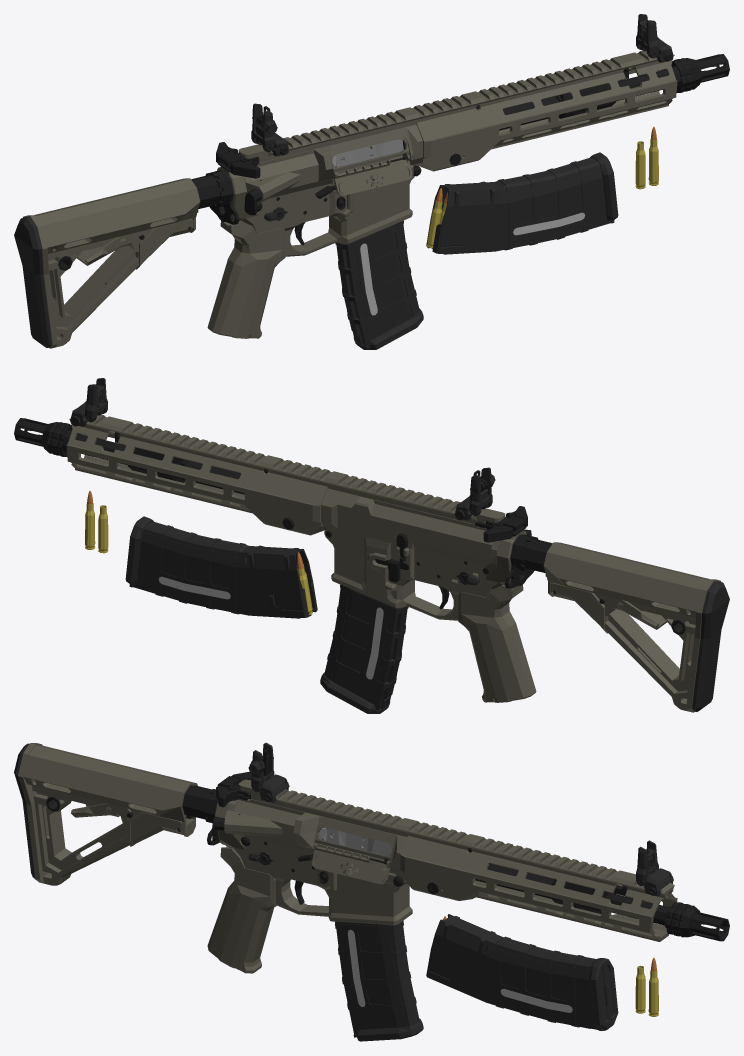
Rendered from low-poly_sako_m23_5.56.glb.
The picture shows the model from 3 angles, top to bottom: view 1: azimuth 30°, elevation 25°; view 2: azimuth 150°, elevation 25°; view 3: azimuth 330°, elevation 25°; orthographic projection.
Visible parts, largest first — view 1: ak24 stock_15, ak24 handguard_17, 55645 ar15 30rnd mag (pmag)_11, ak24 lower_9, ak24 upper_5, 55645 ar15 30rnd mag empty (pmag)_12, ak24 grip_16, ak24 iron sights_18, ak24 dust cover_7, ak24 flash hider_13, ak24 11.5in barrel_2, ak24 charging handle_14 (+1 smaller); view 2: ak24 stock_15, ak24 handguard_17, 55645 ar15 30rnd mag (pmag)_11, ak24 lower_9, ak24 upper_5, 55645 ar15 30rnd mag empty (pmag)_12, ak24 grip_16, ak24 iron sights_18, ak24 flash hider_13, ak24 11.5in barrel_2, ak24 charging handle_14; view 3: ak24 handguard_17, ak24 stock_15, 55645 ar15 30rnd mag (pmag)_11, ak24 lower_9, ak24 upper_5, 55645 ar15 30rnd mag empty (pmag)_12, ak24 grip_16, ak24 iron sights_18, ak24 dust cover_7, ak24 flash hider_13, ak24 11.5in barrel_2, ak24 bolt_6 (+1 smaller).
Boxes of the visible parts, bbox=[...] form: ak24 stock_15: bbox=[14, 178, 200, 348]; ak24 handguard_17: bbox=[406, 50, 677, 171]; 55645 ar15 30rnd mag (pmag)_11: bbox=[426, 152, 618, 254]; ak24 lower_9: bbox=[191, 164, 421, 256]; ak24 upper_5: bbox=[238, 108, 422, 215]; 55645 ar15 30rnd mag empty (pmag)_12: bbox=[335, 220, 423, 349]; ak24 grip_16: bbox=[207, 220, 285, 338]; ak24 iron sights_18: bbox=[251, 14, 672, 156]; ak24 dust cover_7: bbox=[333, 153, 412, 195]; ak24 flash hider_13: bbox=[671, 54, 729, 92]; ak24 11.5in barrel_2: bbox=[402, 68, 668, 149]; ak24 charging handle_14: bbox=[216, 142, 260, 178]; ak24 stock_15: bbox=[543, 542, 729, 712]; ak24 handguard_17: bbox=[66, 414, 337, 535]; 55645 ar15 30rnd mag (pmag)_11: bbox=[125, 516, 317, 618]; ak24 lower_9: bbox=[324, 528, 552, 620]; ak24 upper_5: bbox=[321, 472, 531, 564]; 55645 ar15 30rnd mag empty (pmag)_12: bbox=[320, 584, 408, 713]; ak24 grip_16: bbox=[458, 584, 536, 702]; ak24 iron sights_18: bbox=[70, 378, 495, 520]; ak24 flash hider_13: bbox=[14, 418, 72, 456]; ak24 11.5in barrel_2: bbox=[75, 432, 244, 494]; ak24 charging handle_14: bbox=[475, 506, 527, 542]; ak24 handguard_17: bbox=[400, 821, 677, 941]; ak24 stock_15: bbox=[14, 743, 197, 885]; 55645 ar15 30rnd mag (pmag)_11: bbox=[426, 914, 618, 1030]; ak24 lower_9: bbox=[182, 785, 412, 925]; ak24 upper_5: bbox=[212, 779, 415, 875]; 55645 ar15 30rnd mag empty (pmag)_12: bbox=[335, 920, 423, 1041]; ak24 grip_16: bbox=[207, 846, 276, 973]; ak24 iron sights_18: bbox=[248, 742, 673, 896]; ak24 dust cover_7: bbox=[312, 843, 390, 884]; ak24 flash hider_13: bbox=[663, 902, 729, 941]; ak24 11.5in barrel_2: bbox=[475, 863, 668, 925]; ak24 bolt_6: bbox=[319, 827, 391, 855].
Bounding box in the file's own units: 7.35 × 2.65 × 0.7233.
